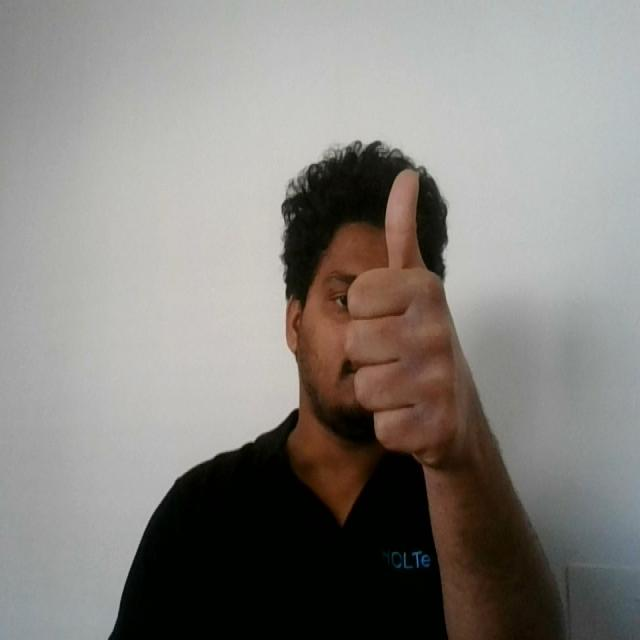Yes: (339, 159, 484, 475)
